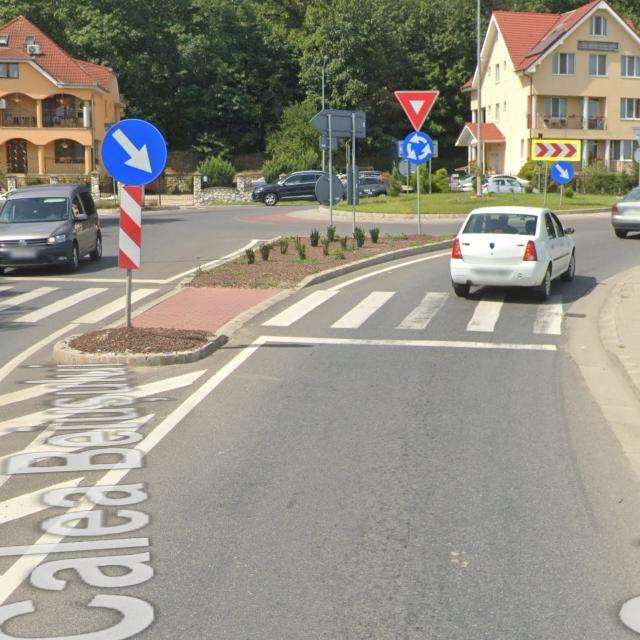prio_give_way: (394, 90, 440, 132)
